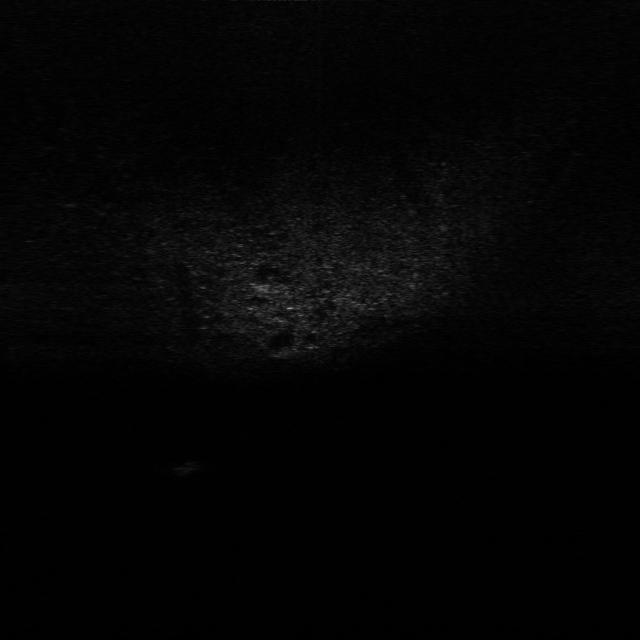cylinder: (174, 456, 203, 477)
